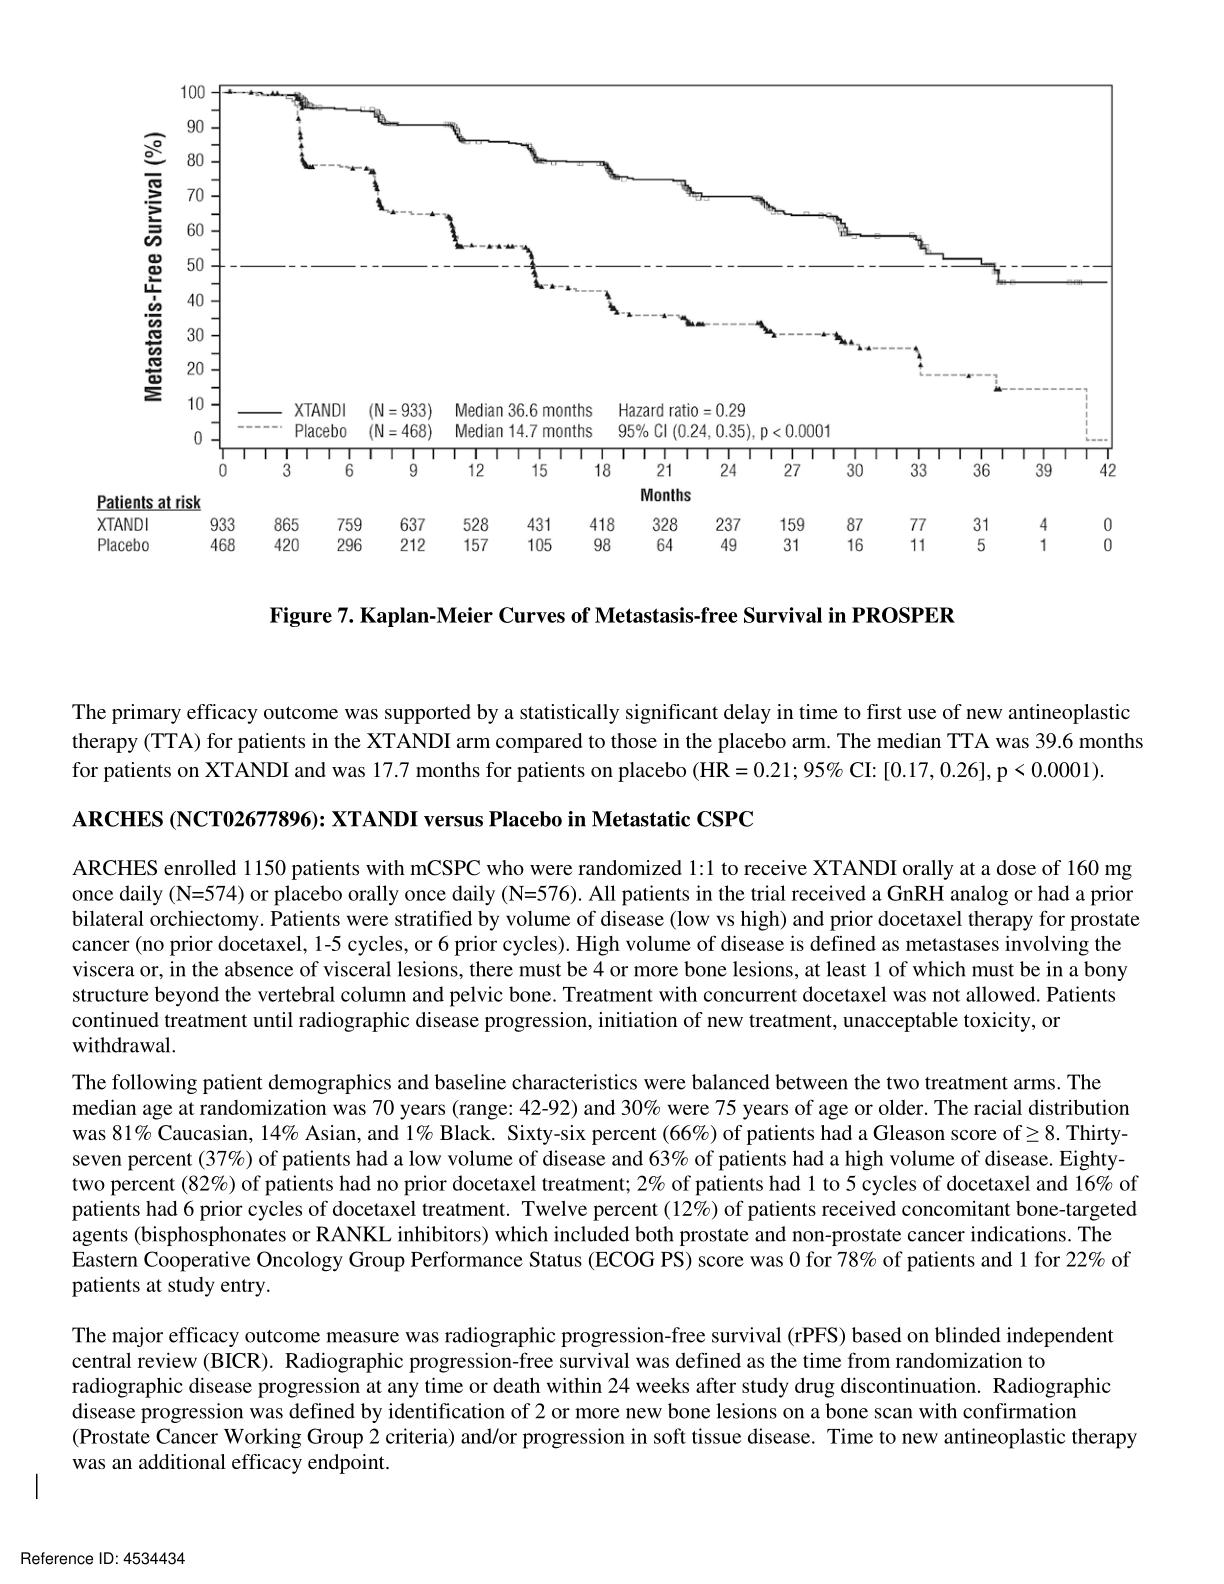nolines: (93, 514, 1115, 555)
